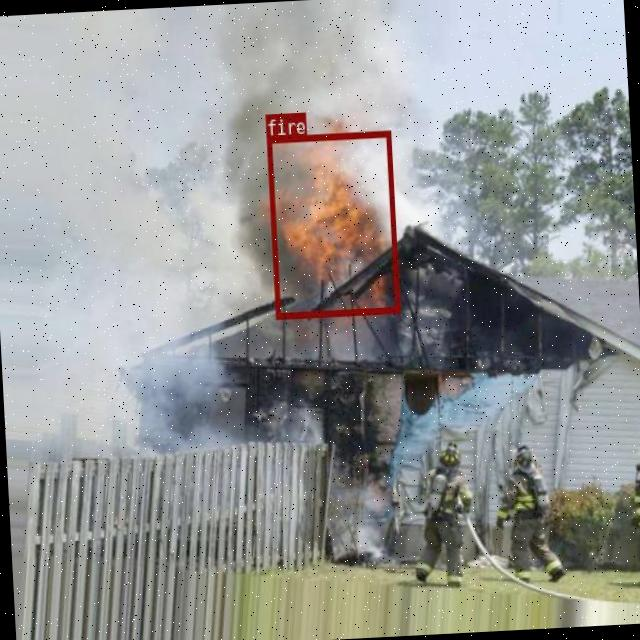fire: (266, 130, 399, 318)
